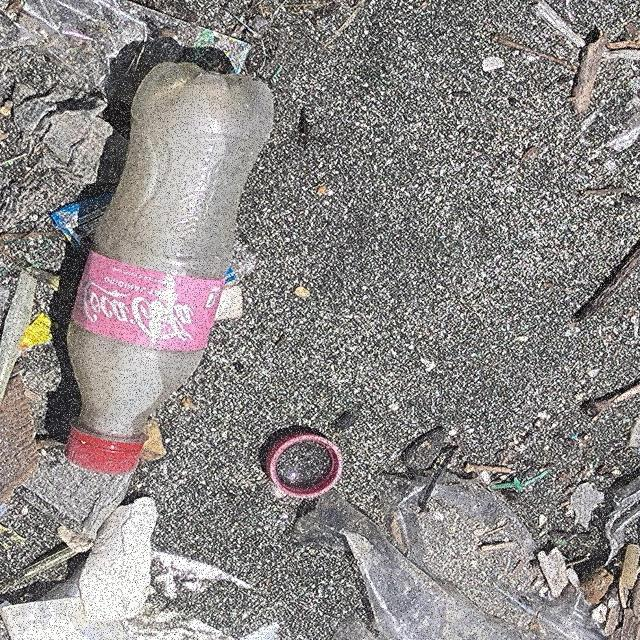plastic_waste: (62, 62, 278, 478), (263, 433, 343, 499)
